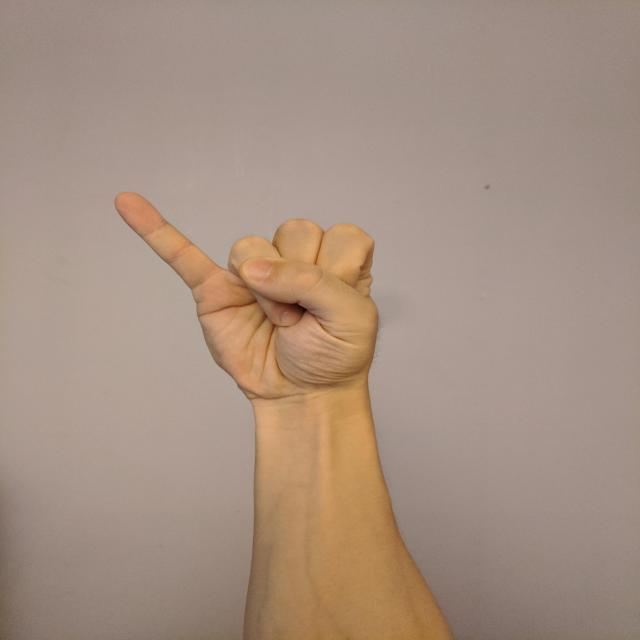I: (109, 187, 388, 401)
